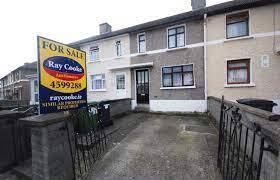property sign: (26, 31, 98, 118)
